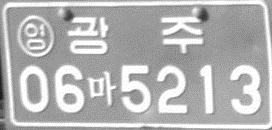0: (18, 65, 50, 113)
1: (192, 64, 225, 115)
2: (156, 64, 188, 114)
3: (228, 63, 262, 116)
5: (120, 63, 153, 114)
6: (52, 63, 85, 114)
광주_D: (64, 16, 205, 55)
마: (87, 71, 117, 107)
영: (16, 14, 54, 57)
